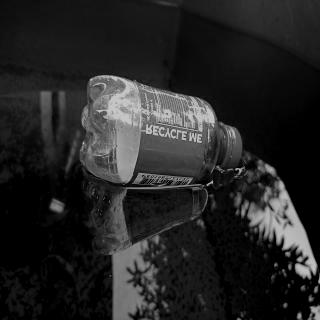bottle: (78, 72, 243, 190)
